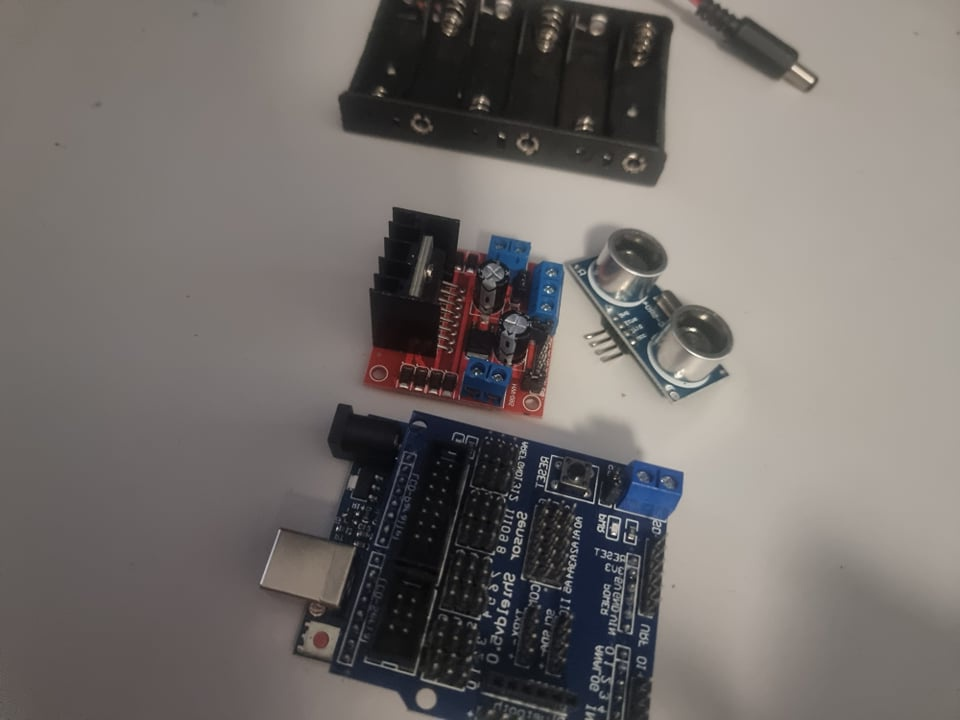5V EXPANSION: (396, 416, 696, 720)
BATTERY BOX: (340, 3, 686, 192)
MOTOR: (349, 209, 563, 409)
SENSOR: (571, 220, 739, 407)
UNO R3: (248, 389, 386, 687)
